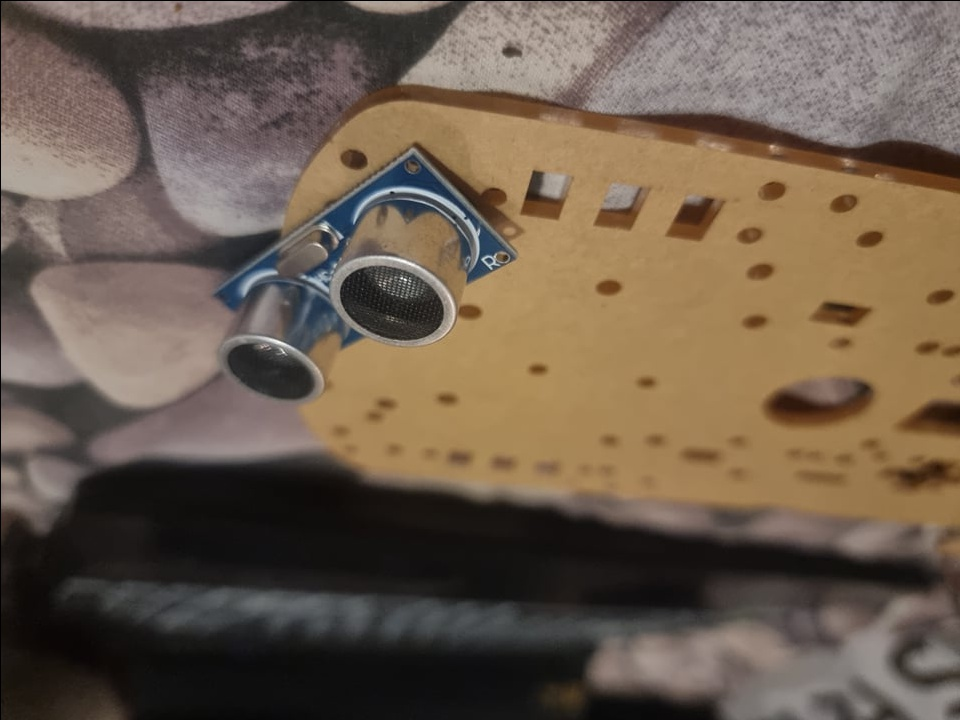SENSOR: (209, 141, 518, 401)
